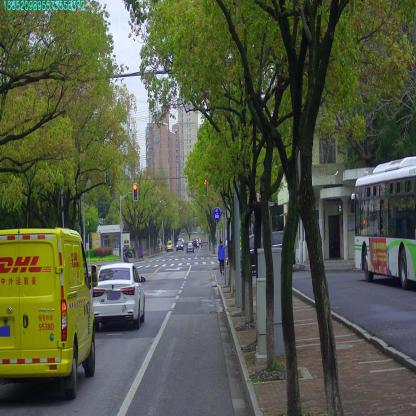traffic-light: (204, 177, 208, 196), (133, 183, 137, 201)
